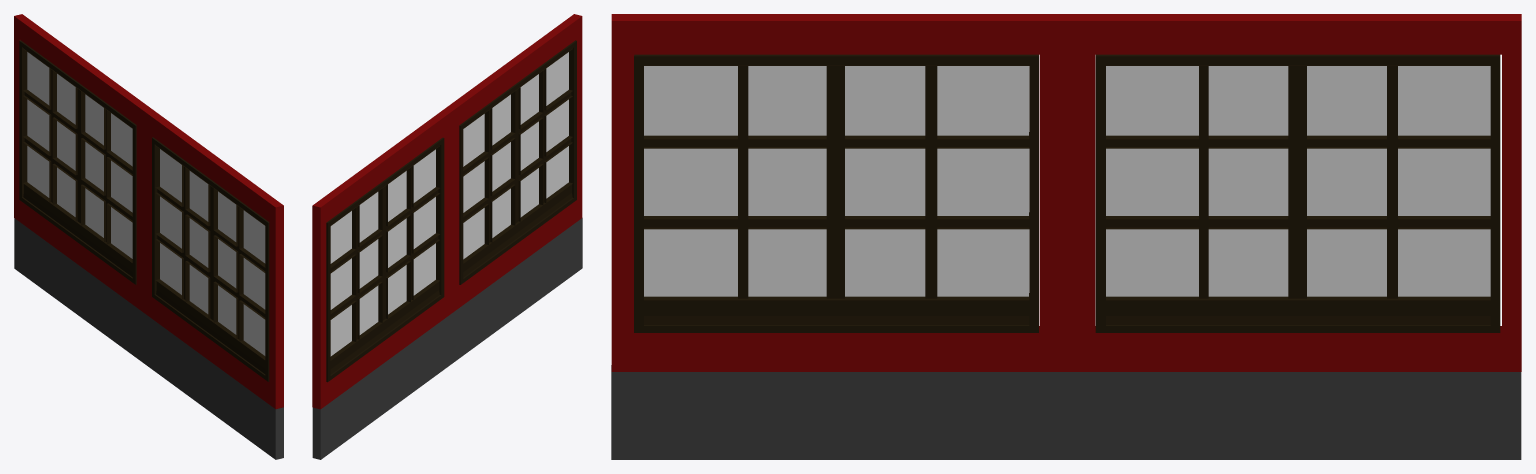
The model's file is jalangkung_wall_window.fbx.
3 renders of one model, left to right at view 1: azimuth 30°, elevation 25°; view 2: azimuth 150°, elevation 25°; view 3: azimuth 270°, elevation 25°, orthographic. The views are drawn at different scales.
Visible parts, largest first — view 1: window, wall, glass, Cube.001; view 2: window, wall, glass, Cube.001; view 3: glass, wall, window, Cube.001.
Boxes of the visible parts, <box> form: window: <box>19,40,269,381</box>; wall: <box>14,14,283,409</box>; glass: <box>27,52,265,355</box>; Cube.001: <box>14,218,283,459</box>; window: <box>326,40,576,382</box>; wall: <box>312,14,582,409</box>; glass: <box>330,52,568,356</box>; Cube.001: <box>312,218,582,459</box>; glass: <box>644,66,1490,296</box>; wall: <box>611,14,1521,371</box>; window: <box>634,54,1500,332</box>; Cube.001: <box>611,365,1521,459</box>.
Bounding box in the file's own units: 25.31 × 598 × 1125.
